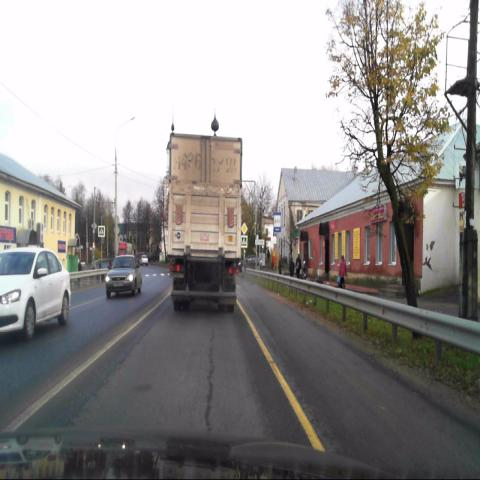2_1: (241, 221, 248, 235)
5_19_1: (240, 235, 248, 248), (98, 226, 104, 238)
7_12: (273, 212, 281, 232)
